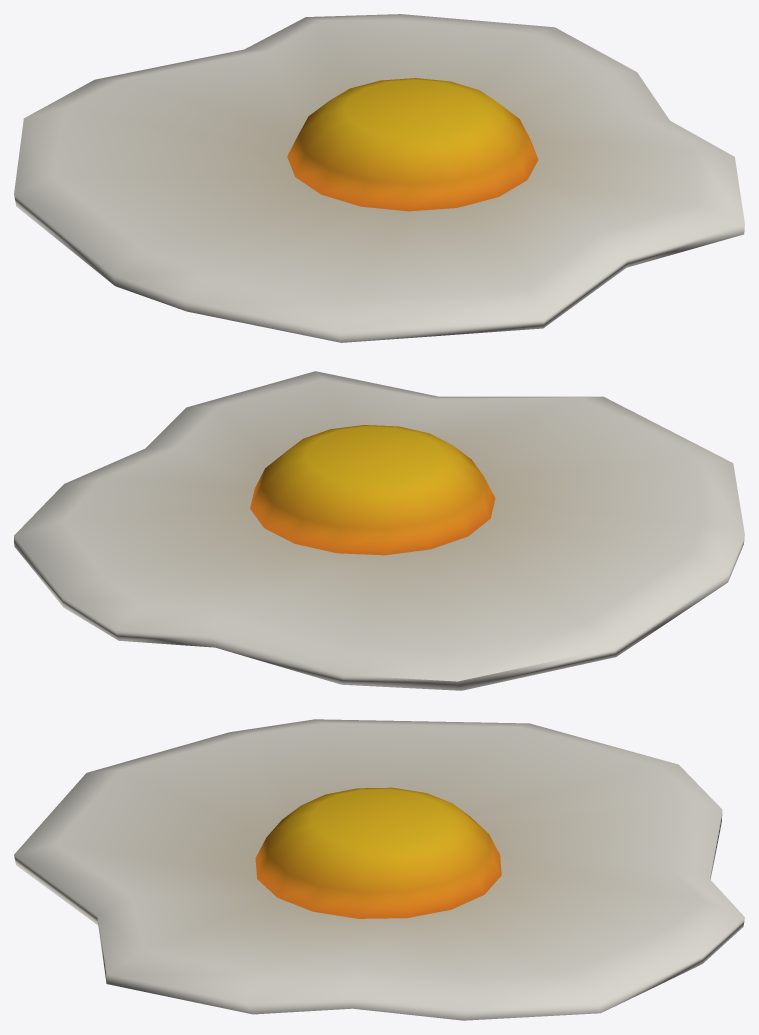
Rendered from consumables-meatsdairy-friedegg_v4.glb.
The picture shows the model from 3 angles, top to bottom: view 1: azimuth 30°, elevation 25°; view 2: azimuth 150°, elevation 25°; view 3: azimuth 270°, elevation 25°; orthographic projection.
Visible parts, largest first — view 1: FriedEgg_v4; view 2: FriedEgg_v4; view 3: FriedEgg_v4.
Boxes of the visible parts, x1,y1,x2,y2 form: FriedEgg_v4: (14,14,744,342); FriedEgg_v4: (14,371,744,690); FriedEgg_v4: (14,719,744,1020).
Size of the model in its own units: 0.1245 by 0.016 by 0.1322.
